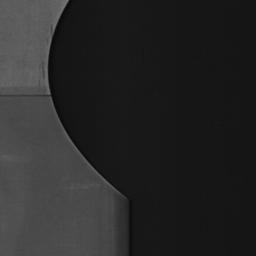Crescent gap: (48, 0, 118, 190)
